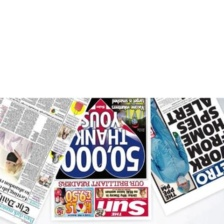news_paper: (0, 87, 95, 223), (51, 94, 151, 223), (136, 98, 224, 216)
